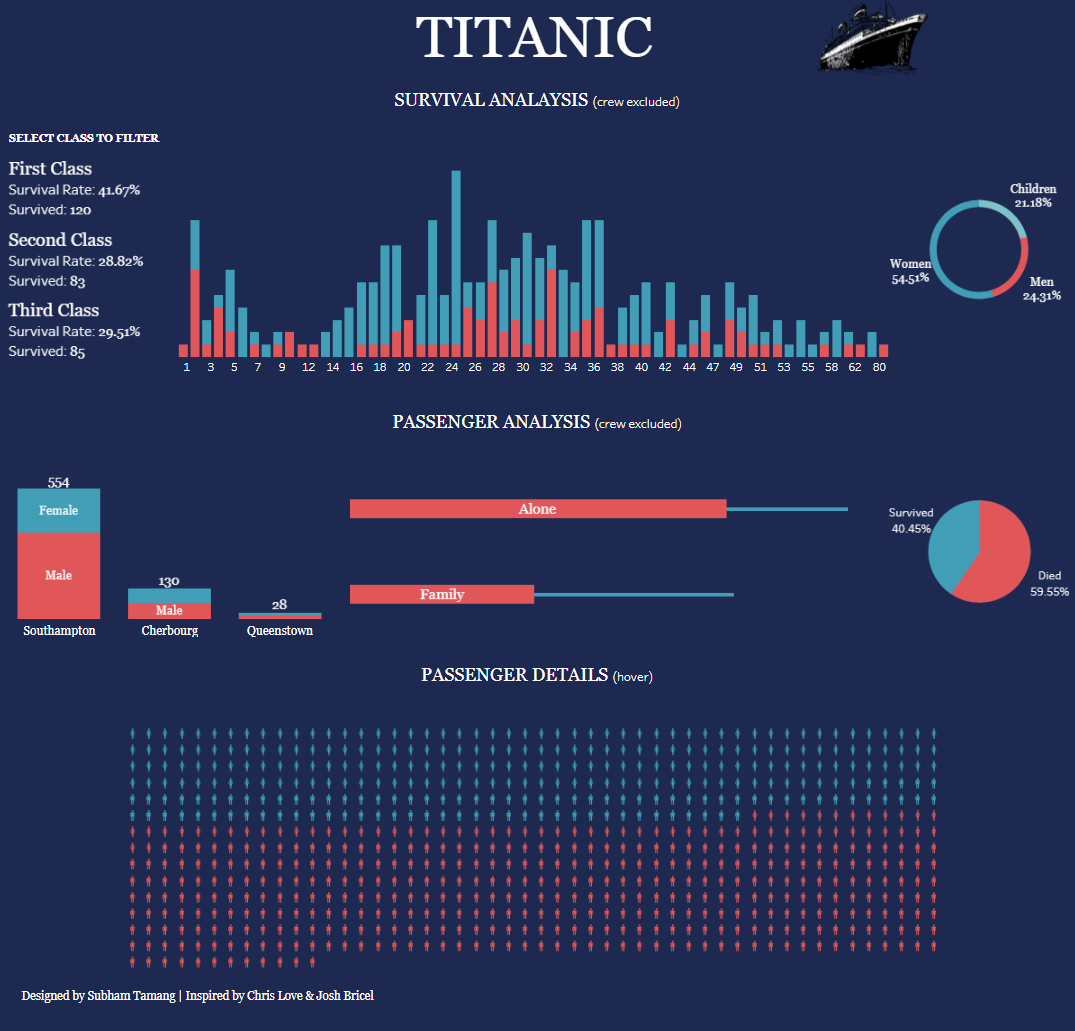

What the dashboard file says about the page in this screenshot:
{"tool":"tableau","page":{"name":"Dashboard 1","canvas":[1200,1150],"ordinal":0},"visuals":[{"type":"text","box":[0,0,911,89]},{"type":"image","param":"Image/kisspng-sinking-of-the-rms-titanic-ship-clip-art-small-ocean-cliparts-5aad","box":[911,0,123,89]},{"type":"blank","box":[1034,0,166,89]},{"type":"text","box":[0,89,1200,50]},{"type":"worksheet","title":"Pclass","mark":"Text","rows":["Pclass"],"box":[0,139,200,283]},{"type":"worksheet","title":"M VS F Survival Rate","mark":"Bar","rows":["Gender & Sex"],"cols":["Age (copy)_1233141929016918018"],"box":[200,139,792,283]},{"type":"worksheet","title":"M/W/C  Survival Rate","mark":"Pie","rows":["Calculation_900157031705534465","Calculation_900157031705534465"],"box":[992,139,208,283]},{"type":"text","box":[0,422,1200,91]},{"type":"worksheet","title":"City","mark":"Automatic","rows":["Age"],"cols":["Embarked"],"box":[0,513,384,206]},{"type":"worksheet","title":"Alove VS Family","mark":"Automatic","rows":["Calculation_900157031713914883"],"cols":["Age"],"box":[384,513,599,206]},{"type":"worksheet","title":"Survived VS died","mark":"Pie","box":[983,513,217,206]},{"type":"blank","box":[8,574.8,1184,567.2]},{"type":"text","box":[0,719,1200,67]},{"type":"blank","box":[0,786,134,312]},{"type":"worksheet","title":"Passenger Details ","mark":"Shape","box":[134,786,932,312]},{"type":"blank","box":[1066,786,134,312]},{"type":"text","box":[0,1098,1200,23]},{"type":"blank","box":[0,1121,1200,29]}]}

Visuals, with their boxes in screenshot pixels (x1, y1, x2, y2), scaled from the page's 1200x1150 canvas onto the 1075x1031 screenshot:
text: <bbox>0, 0, 816, 80</bbox>
image: <bbox>816, 0, 926, 80</bbox>
blank: <bbox>926, 0, 1074, 80</bbox>
text: <bbox>0, 80, 1074, 125</bbox>
"Pclass" worksheet (Text marks): <bbox>0, 125, 179, 378</bbox>
"M VS F Survival Rate" worksheet (Bar marks): <bbox>179, 125, 889, 378</bbox>
"M/W/C  Survival Rate" worksheet (Pie marks): <bbox>889, 125, 1074, 378</bbox>
text: <bbox>0, 378, 1074, 460</bbox>
"City" worksheet: <bbox>0, 460, 344, 645</bbox>
"Alove VS Family" worksheet: <bbox>344, 460, 881, 645</bbox>
"Survived VS died" worksheet (Pie marks): <bbox>881, 460, 1074, 645</bbox>
blank: <bbox>7, 515, 1068, 1024</bbox>
text: <bbox>0, 645, 1074, 705</bbox>
blank: <bbox>0, 705, 120, 984</bbox>
"Passenger Details " worksheet (Shape marks): <bbox>120, 705, 955, 984</bbox>
blank: <bbox>955, 705, 1074, 984</bbox>
text: <bbox>0, 984, 1074, 1005</bbox>
blank: <bbox>0, 1005, 1074, 1030</bbox>
